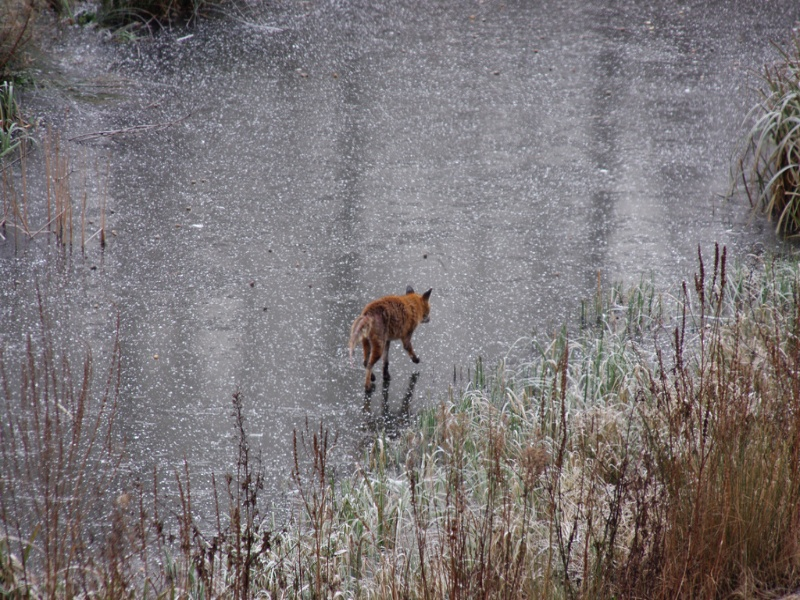fox: (344, 283, 436, 388)
